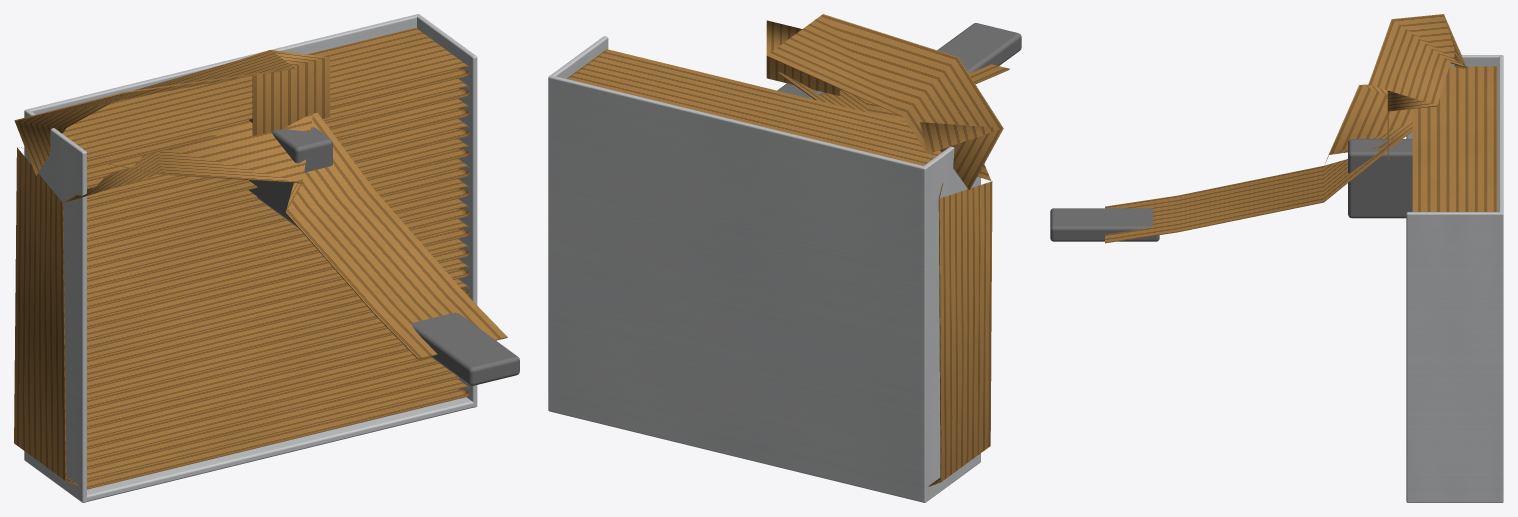
The model's file is ds2-tether.glb.
3 views of the same model, side by side, from view 1: azimuth 30°, elevation 25°; view 2: azimuth 150°, elevation 25°; view 3: azimuth 270°, elevation 25° (orthographic). The views are drawn at different scales.
Visible parts, largest first — view 1: TETHER_COIL_foldedFlex, TETHER_LEAD_lead, TETHER_HUB_canister, TETHER_HUB_exit, TETHER_LEAD_plug, TETHER_HUB_conn; view 2: TETHER_HUB_canister, TETHER_HUB_exit, TETHER_LEAD_lead, TETHER_COIL_foldedFlex, TETHER_LEAD_plug; view 3: TETHER_HUB_canister, TETHER_LEAD_lead, TETHER_COIL_foldedFlex, TETHER_HUB_exit, TETHER_HUB_conn, TETHER_LEAD_plug.
Part boxes in pixels (bbox=[...]): TETHER_COIL_foldedFlex: bbox=[62, 28, 469, 489]; TETHER_LEAD_lead: bbox=[14, 112, 507, 489]; TETHER_HUB_canister: bbox=[24, 14, 477, 502]; TETHER_HUB_exit: bbox=[14, 50, 329, 175]; TETHER_LEAD_plug: bbox=[412, 312, 519, 385]; TETHER_HUB_conn: bbox=[249, 119, 332, 226]; TETHER_HUB_canister: bbox=[548, 36, 980, 502]; TETHER_HUB_exit: bbox=[766, 14, 1003, 190]; TETHER_LEAD_lead: bbox=[777, 64, 1009, 486]; TETHER_COIL_foldedFlex: bbox=[567, 49, 941, 165]; TETHER_LEAD_plug: bbox=[937, 23, 1021, 73]; TETHER_HUB_canister: bbox=[1406, 55, 1503, 502]; TETHER_LEAD_lead: bbox=[1105, 84, 1412, 243]; TETHER_COIL_foldedFlex: bbox=[1412, 66, 1497, 211]; TETHER_HUB_exit: bbox=[1368, 14, 1466, 160]; TETHER_HUB_conn: bbox=[1348, 139, 1412, 218]; TETHER_LEAD_plug: bbox=[1050, 208, 1159, 241].
Size of the model in its own units: 0.0346 by 0.0307 by 0.0373.
3 materials, 2 textured.
